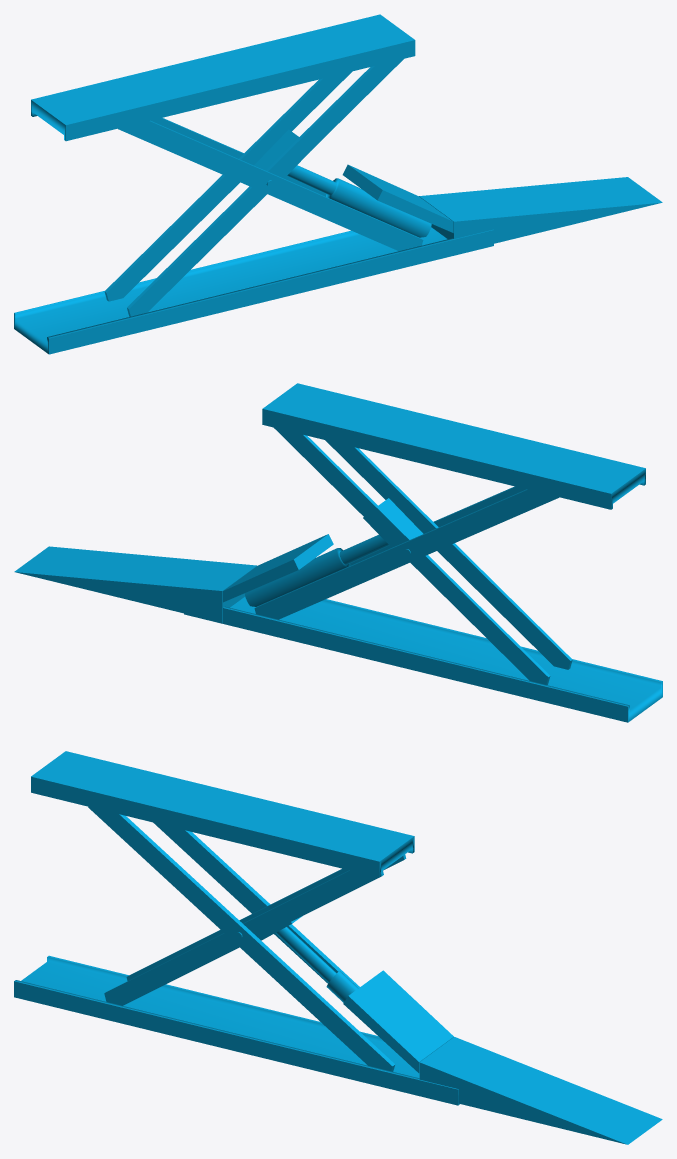
File: Car_Lift_01_Lod0.fbx
3 renders of one model, top to bottom at view 1: azimuth 30°, elevation 25°; view 2: azimuth 150°, elevation 25°; view 3: azimuth 330°, elevation 25°, orthographic.
Visible parts, largest first — view 1: Car_Lift_01_Lod0; view 2: Car_Lift_01_Lod0; view 3: Car_Lift_01_Lod0.
Part boxes in pixels (box(x1,y1,x2,y2)): Car_Lift_01_Lod0: box(14, 14, 662, 354); Car_Lift_01_Lod0: box(14, 383, 662, 722); Car_Lift_01_Lod0: box(14, 751, 662, 1144).
Size of the model in its own units: 546 by 191 by 54.84.
